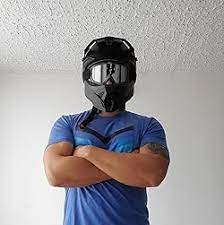helmets: (77, 34, 141, 114)
